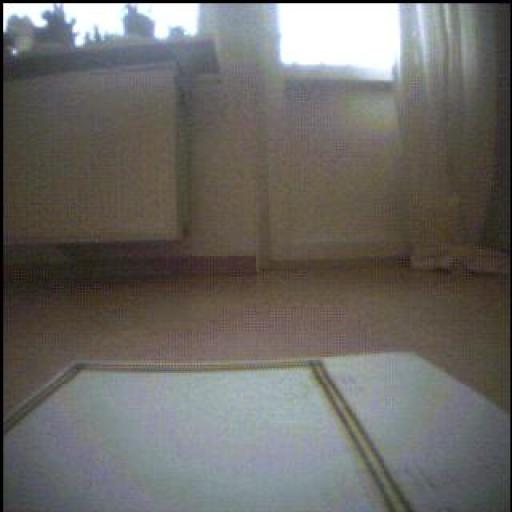Pad: (4, 356, 492, 512)
